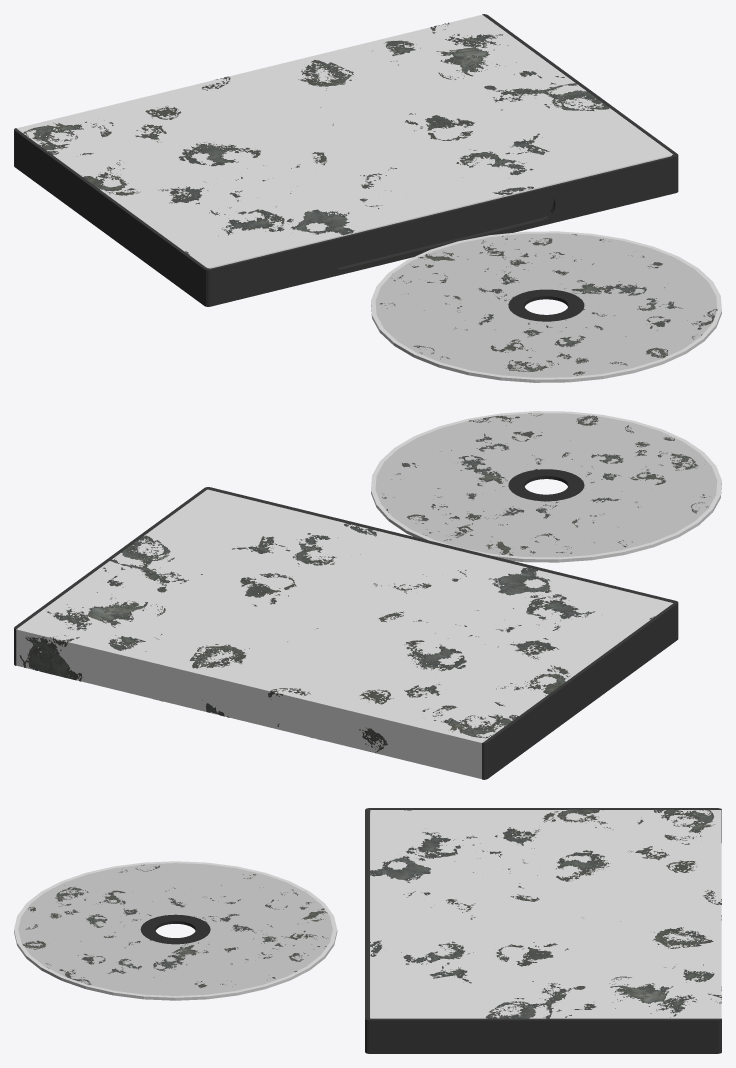
Rendered from case.fbx.
3 renders of one model, top to bottom at view 1: azimuth 30°, elevation 25°; view 2: azimuth 150°, elevation 25°; view 3: azimuth 270°, elevation 25°, orthographic. The views are drawn at different scales.
Visible parts, largest first — view 1: Plastic, Cylinder, Case, Plastic - Transparent, Circle; view 2: Plastic, Cylinder, Plastic - Transparent, Case, Circle; view 3: Plastic, Cylinder, Case, Plastic - Transparent, Circle.
Part boxes in pixels (<box>): Plastic: <box>17,15,672,267</box>; Cylinder: <box>371,231,721,382</box>; Case: <box>14,14,678,306</box>; Plastic - Transparent: <box>23,22,609,254</box>; Circle: <box>380,234,717,375</box>; Plastic: <box>16,489,672,778</box>; Cylinder: <box>371,411,721,562</box>; Plastic - Transparent: <box>15,523,654,753</box>; Case: <box>14,487,678,779</box>; Circle: <box>382,413,709,555</box>; Plastic: <box>370,810,721,1018</box>; Cylinder: <box>14,861,337,1000</box>; Case: <box>365,808,721,1053</box>; Plastic - Transparent: <box>370,809,721,1018</box>; Circle: <box>22,864,328,988</box>.
Size of the model in its own units: 18.96 by 1.4 by 26.74.
